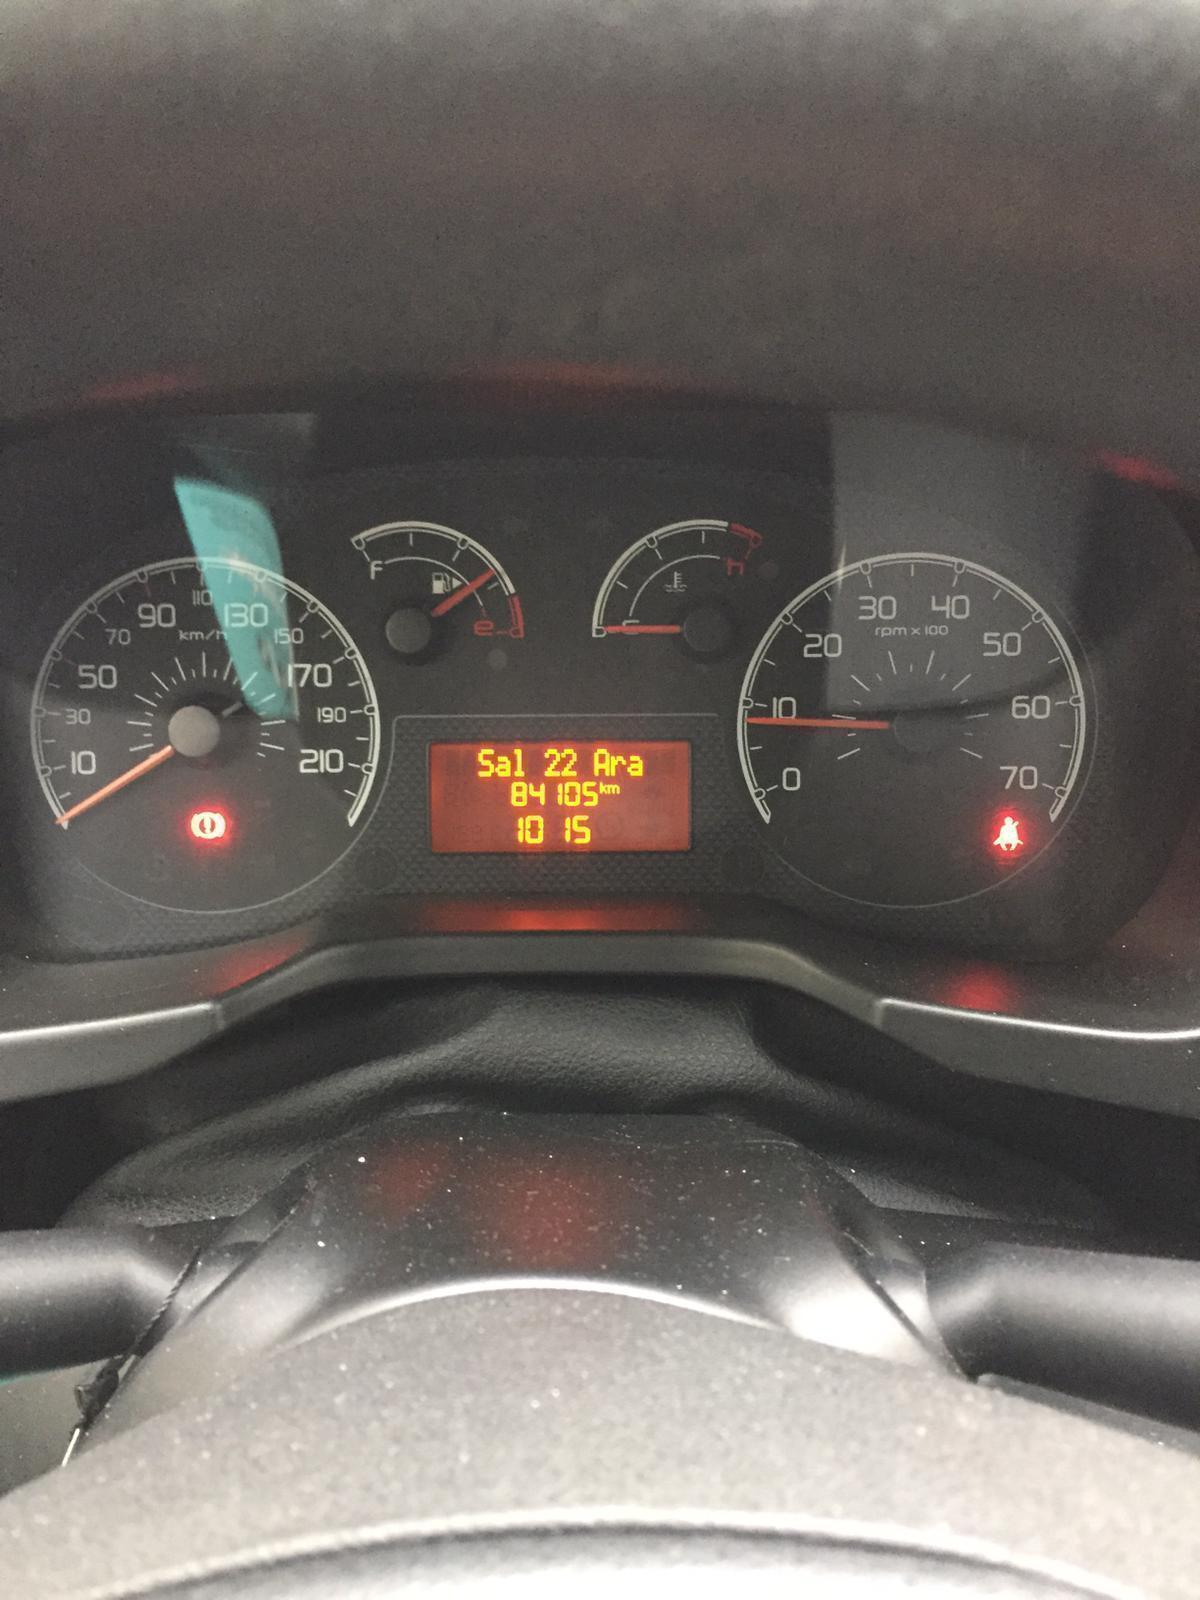0: (524, 813, 546, 847), (563, 779, 581, 808)
1: (514, 813, 524, 847), (562, 813, 572, 847), (555, 779, 562, 809)
2: (543, 746, 562, 777), (561, 745, 579, 776)
4: (528, 780, 546, 808)
5: (574, 814, 590, 845), (582, 780, 597, 808)
8: (511, 780, 528, 808)
X: (476, 745, 493, 779), (592, 746, 611, 775), (512, 746, 524, 779), (629, 753, 644, 776), (611, 753, 626, 775), (495, 753, 509, 776), (608, 784, 620, 796), (599, 781, 608, 794)
odometer: (426, 734, 696, 858)
